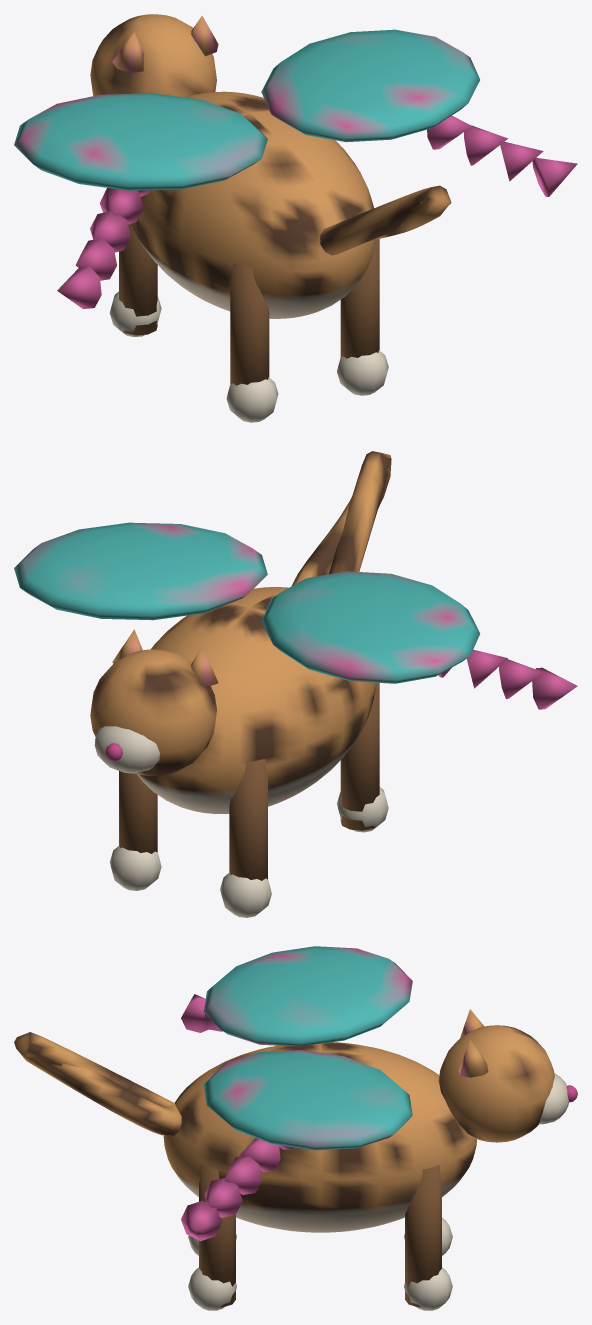
File: alebrije_jaguar.glb
3 views of the same model, one above another, from view 1: azimuth 30°, elevation 25°; view 2: azimuth 150°, elevation 25°; view 3: azimuth 270°, elevation 25° (orthographic). The views are drawn at different scales.
Visible parts, largest first — view 1: JaguarBody, JaguarWing_L, JaguarWing_R, JaguarHead, JaguarLeg_2, JaguarTail, JaguarLeg_3, JaguarLeg_0, JaguarPaw_2, JaguarPaw_3, JaguarFeather_L_4, JaguarFeather_L_2 (+9 smaller); view 2: JaguarBody, JaguarWing_R, JaguarWing_L, JaguarHead, JaguarTail, JaguarLeg_0, JaguarLeg_2, JaguarLeg_1, JaguarSnout, JaguarPaw_0, JaguarPaw_1, JaguarFeather_L_4 (+4 smaller); view 3: JaguarBody, JaguarWing_R, JaguarWing_L, JaguarHead, JaguarTail, JaguarLeg_1, JaguarLeg_3, JaguarPaw_1, JaguarPaw_3, JaguarFeather_R_4, JaguarFeather_R_3, JaguarFeather_R_2 (+4 smaller).
Part boxes in pixels (left/top/right/bottom): JaguarBody: left=131, top=91, right=374, bottom=318; JaguarWing_L: left=14, top=93, right=267, bottom=190; JaguarWing_R: left=261, top=29, right=479, bottom=142; JaguarHead: left=90, top=14, right=216, bottom=97; JaguarLeg_2: left=230, top=263, right=269, bottom=385; JaguarTail: left=320, top=185, right=451, bottom=255; JaguarLeg_3: left=340, top=239, right=379, bottom=358; JaguarLeg_0: left=119, top=224, right=157, bottom=335; JaguarPaw_2: left=226, top=377, right=278, bottom=422; JaguarPaw_3: left=337, top=350, right=388, bottom=395; JaguarFeather_L_4: left=57, top=266, right=101, bottom=309; JaguarFeather_L_2: left=90, top=211, right=130, bottom=252; JaguarBody: left=137, top=587, right=375, bottom=814; JaguarWing_R: left=14, top=522, right=267, bottom=620; JaguarWing_L: left=261, top=571, right=480, bottom=683; JaguarHead: left=90, top=649, right=216, bottom=776; JaguarTail: left=291, top=451, right=391, bottom=586; JaguarLeg_0: left=229, top=759, right=267, bottom=880; JaguarLeg_2: left=340, top=682, right=379, bottom=830; JaguarLeg_1: left=119, top=771, right=157, bottom=853; JaguarSnout: left=94, top=726, right=159, bottom=773; JaguarPaw_0: left=220, top=872, right=271, bottom=917; JaguarPaw_1: left=109, top=845, right=161, bottom=890; JaguarFeather_L_4: left=532, top=667, right=577, bottom=709; JaguarBody: left=163, top=1042, right=476, bottom=1232; JaguarWing_R: left=203, top=1050, right=412, bottom=1150; JaguarWing_L: left=203, top=946, right=412, bottom=1046; JaguarHead: left=438, top=1025, right=554, bottom=1142; JaguarTail: left=14, top=1032, right=181, bottom=1135; JaguarLeg_1: left=405, top=1165, right=441, bottom=1307; JaguarLeg_3: left=199, top=1165, right=235, bottom=1307; JaguarPaw_1: left=404, top=1267, right=452, bottom=1310; JaguarPaw_3: left=188, top=1267, right=236, bottom=1310; JaguarFeather_R_4: left=181, top=1200, right=221, bottom=1241; JaguarFeather_R_3: left=204, top=1178, right=242, bottom=1217; JaguarFeather_R_2: left=224, top=1156, right=262, bottom=1194.
Bounding box in the file's own units: 2.27 × 1.19 × 2.3.
